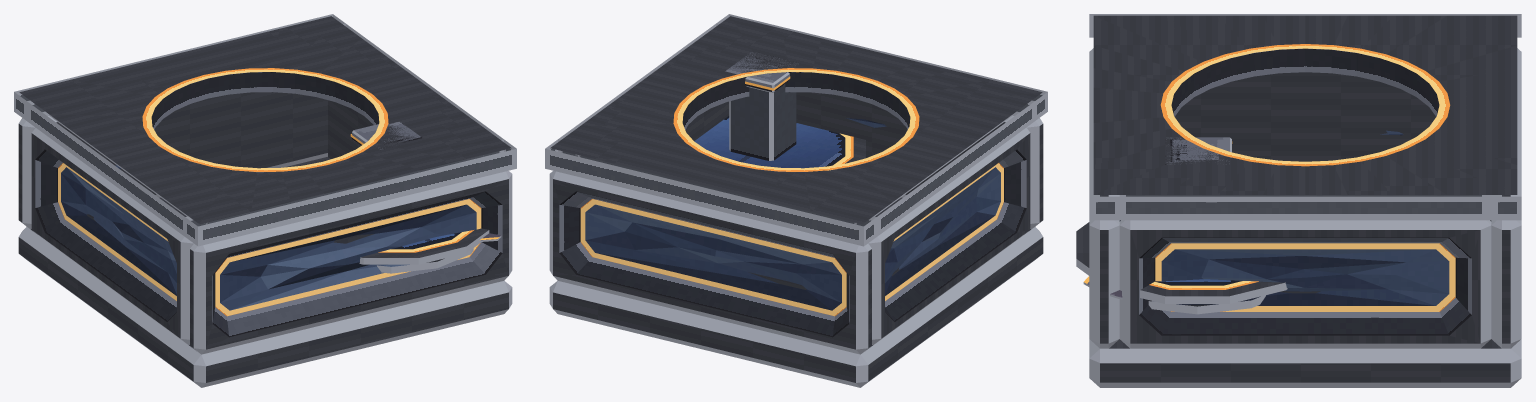
The model's file is marlit_solar.glb.
The picture shows the model from 3 angles, left to right: view 1: azimuth 30°, elevation 25°; view 2: azimuth 150°, elevation 25°; view 3: azimuth 270°, elevation 25°; orthographic projection. The views are drawn at different scales.
Parts seen in each view (by area): view 1: marlit_solar_body, marlit_solar_hub, marlit_solar_stage0; view 2: marlit_solar_body, marlit_solar_stage0, marlit_solar_hub; view 3: marlit_solar_body, marlit_solar_hub, marlit_solar_stage0, marlit_solar_stage1.
Boxes of the visible parts, <box> form: marlit_solar_body: <box>14,14,516,387</box>; marlit_solar_hub: <box>359,228,489,273</box>; marlit_solar_stage0: <box>350,122,420,153</box>; marlit_solar_body: <box>545,14,1047,387</box>; marlit_solar_stage0: <box>725,52,800,160</box>; marlit_solar_hub: <box>689,116,865,172</box>; marlit_solar_body: <box>1089,14,1521,387</box>; marlit_solar_hub: <box>1076,220,1287,314</box>; marlit_solar_stage0: <box>1165,137,1232,164</box>; marlit_solar_stage1: <box>1170,139,1224,161</box>.
Size of the model in its own units: 2.06 by 1 by 2.06.
Materials: 1 (1 with a texture image).
